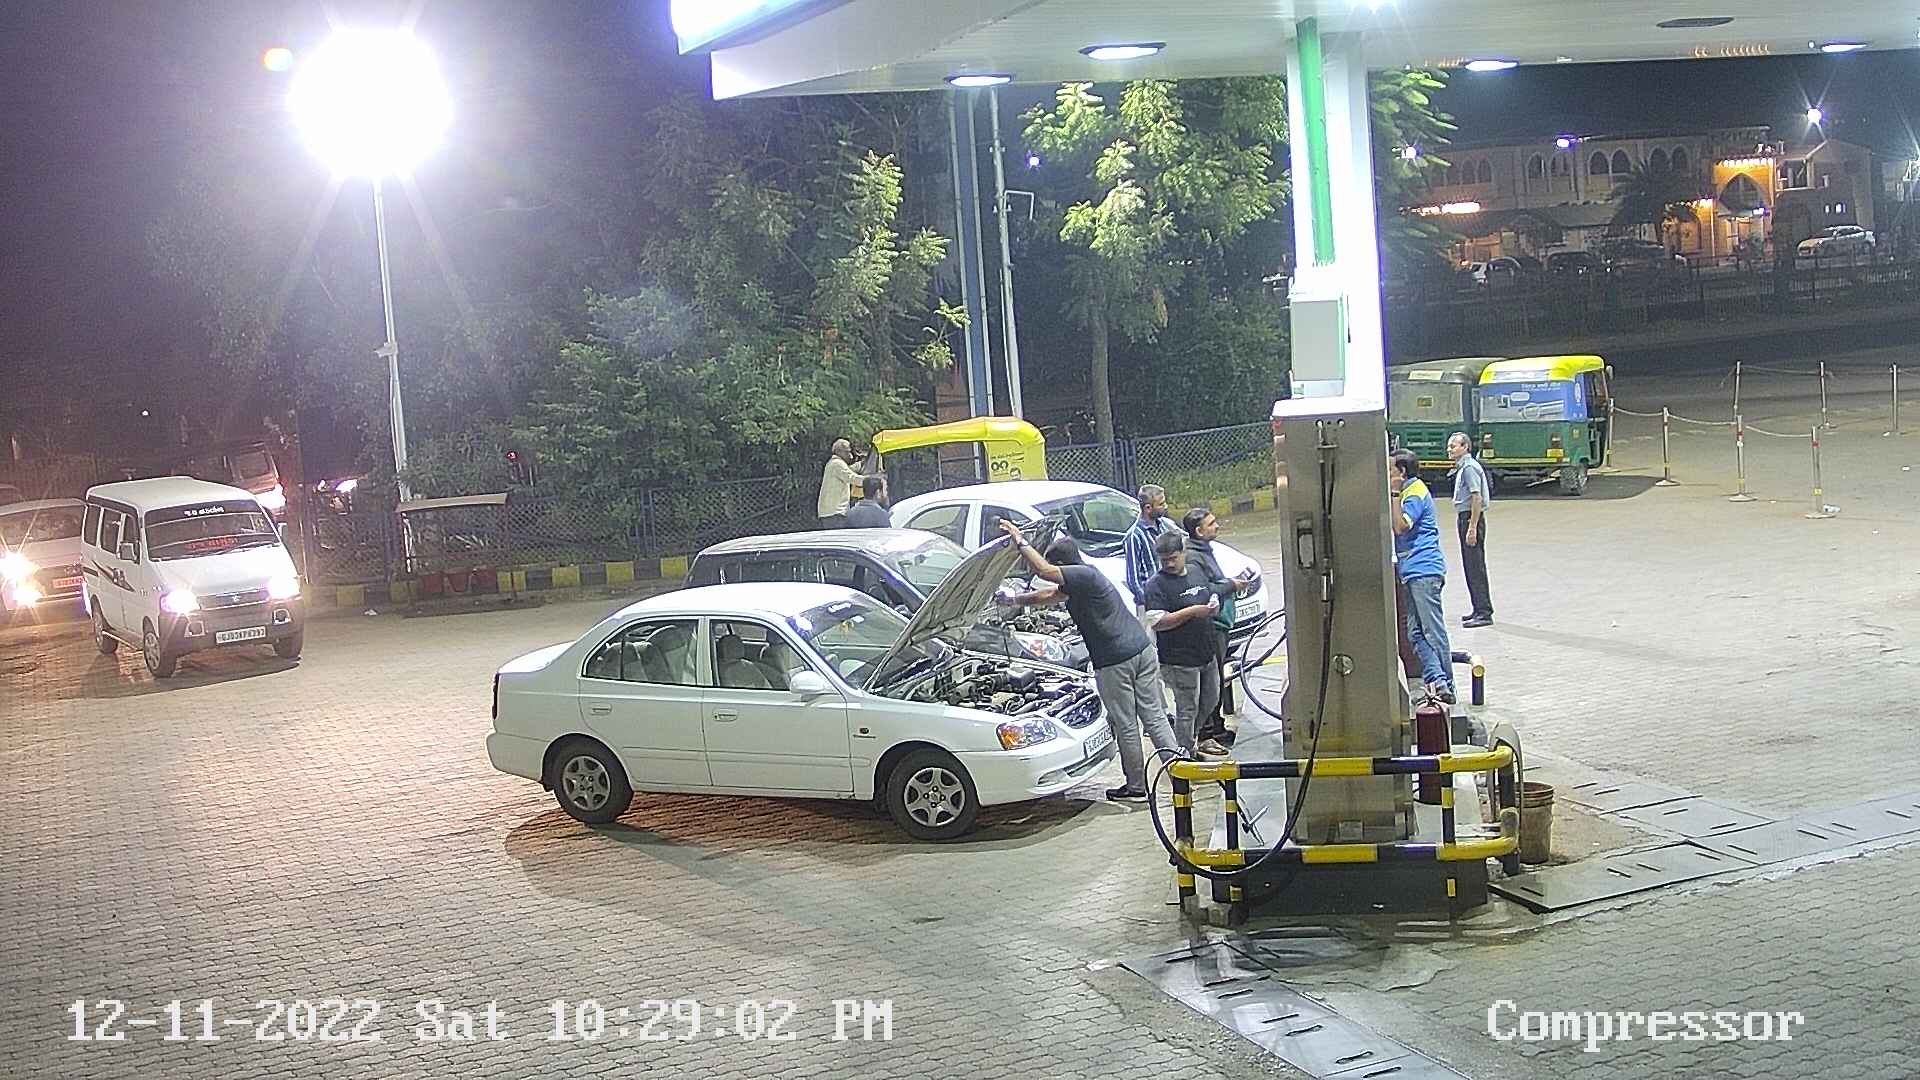Auto: (807, 413, 1058, 518), (1461, 344, 1618, 504), (1379, 345, 1510, 509)
Car: (477, 513, 1124, 843), (880, 469, 1276, 676), (669, 512, 1102, 676), (69, 464, 315, 688), (0, 471, 88, 646)
Others: (1383, 436, 1458, 711)
